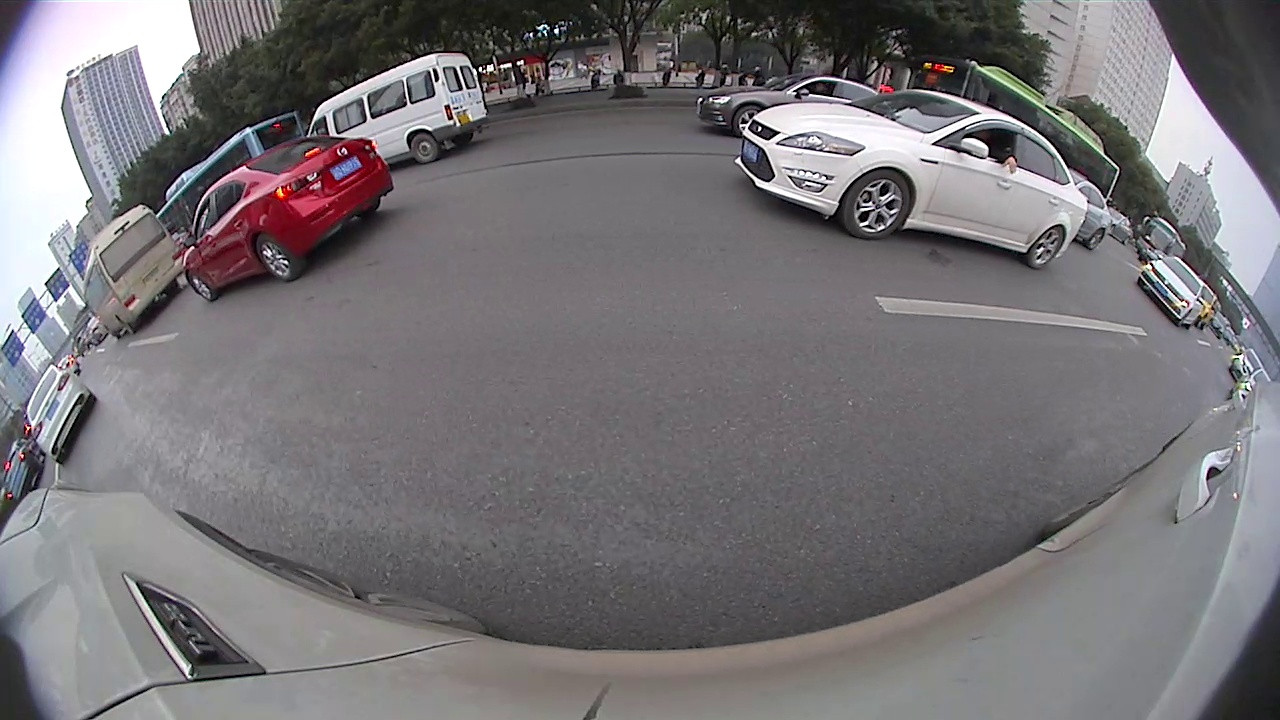bus: (909, 61, 1119, 201), (156, 112, 305, 223), (82, 205, 182, 337)
car: (733, 89, 1084, 270), (182, 135, 393, 302), (307, 53, 487, 160), (695, 74, 903, 135), (28, 365, 98, 464), (1139, 257, 1207, 329), (1056, 171, 1111, 250)
front: (841, 168, 911, 235), (186, 271, 214, 300), (734, 104, 761, 134)
rear: (254, 236, 304, 278), (1026, 227, 1064, 268), (412, 132, 436, 163), (1085, 228, 1105, 247)
